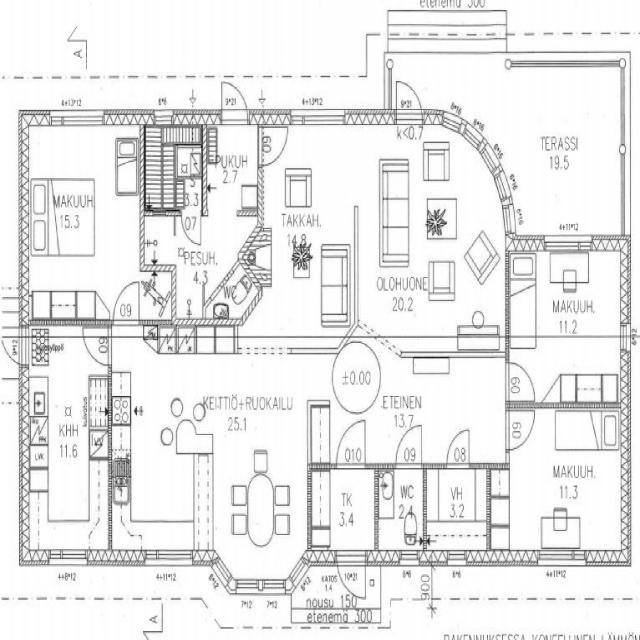door: (337, 551, 366, 611), (336, 419, 366, 469), (397, 71, 423, 126), (222, 72, 247, 126), (113, 280, 140, 326), (396, 424, 422, 470), (506, 411, 536, 450), (0, 328, 29, 367), (507, 363, 536, 402), (258, 128, 287, 166), (83, 328, 112, 366), (448, 430, 470, 470), (181, 210, 201, 246)
